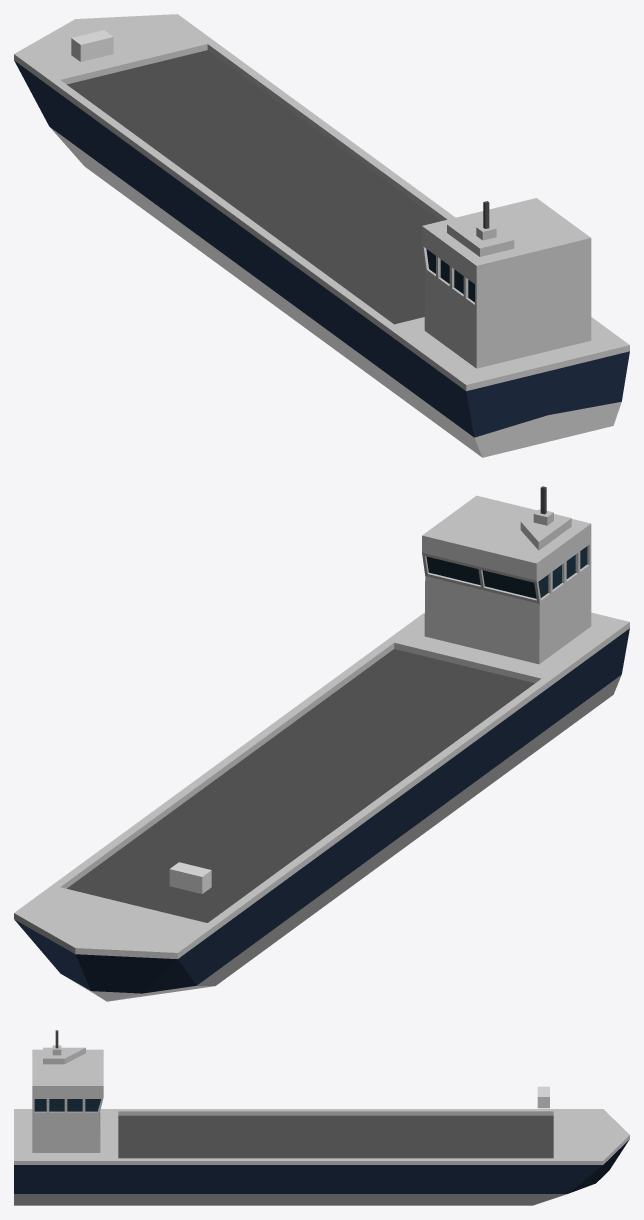
File: Cargo Ship.fbx
3 renders of one model, top to bottom at view 1: azimuth 30°, elevation 25°; view 2: azimuth 150°, elevation 25°; view 3: azimuth 270°, elevation 25°, orthographic. The views are drawn at different scales.
Parts seen in each view (by area): view 1: Boat, Container; view 2: Boat, Container; view 3: Boat, Container.
Part boxes in pixels (box(x1,y1,x2,y2)): Boat: box(14, 14, 629, 457); Container: box(71, 30, 113, 61); Boat: box(14, 486, 629, 1001); Container: box(169, 862, 211, 893); Boat: box(14, 1030, 629, 1205); Container: box(537, 1086, 549, 1108).
Size of the model in its own units: 2000 by 2596 by 10000.
